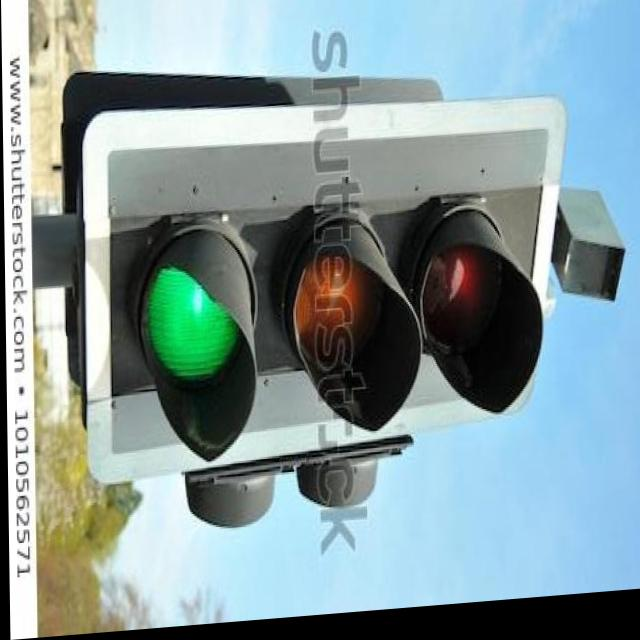green light: (99, 184, 543, 455)
